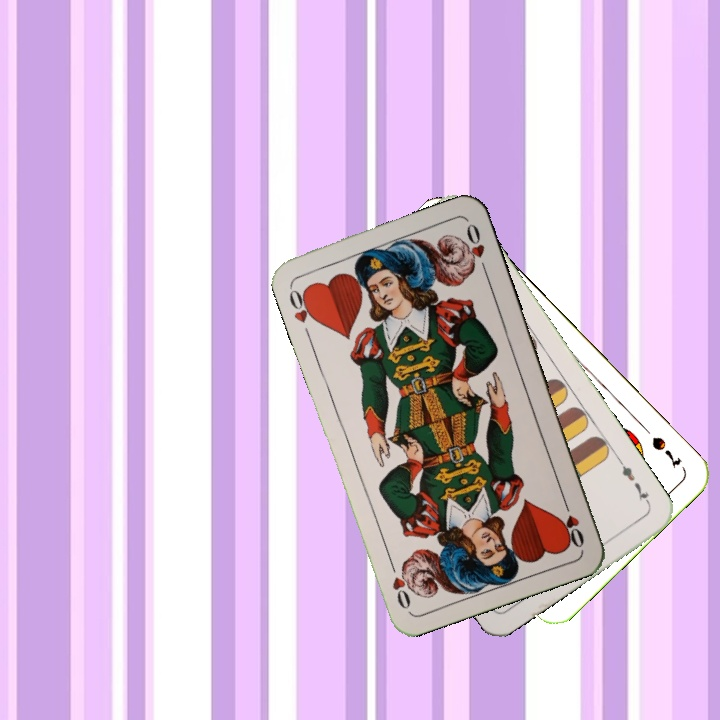E7: (615, 456, 654, 508)
HO: (558, 493, 587, 551), (285, 281, 320, 326)
S7: (648, 432, 684, 470)
